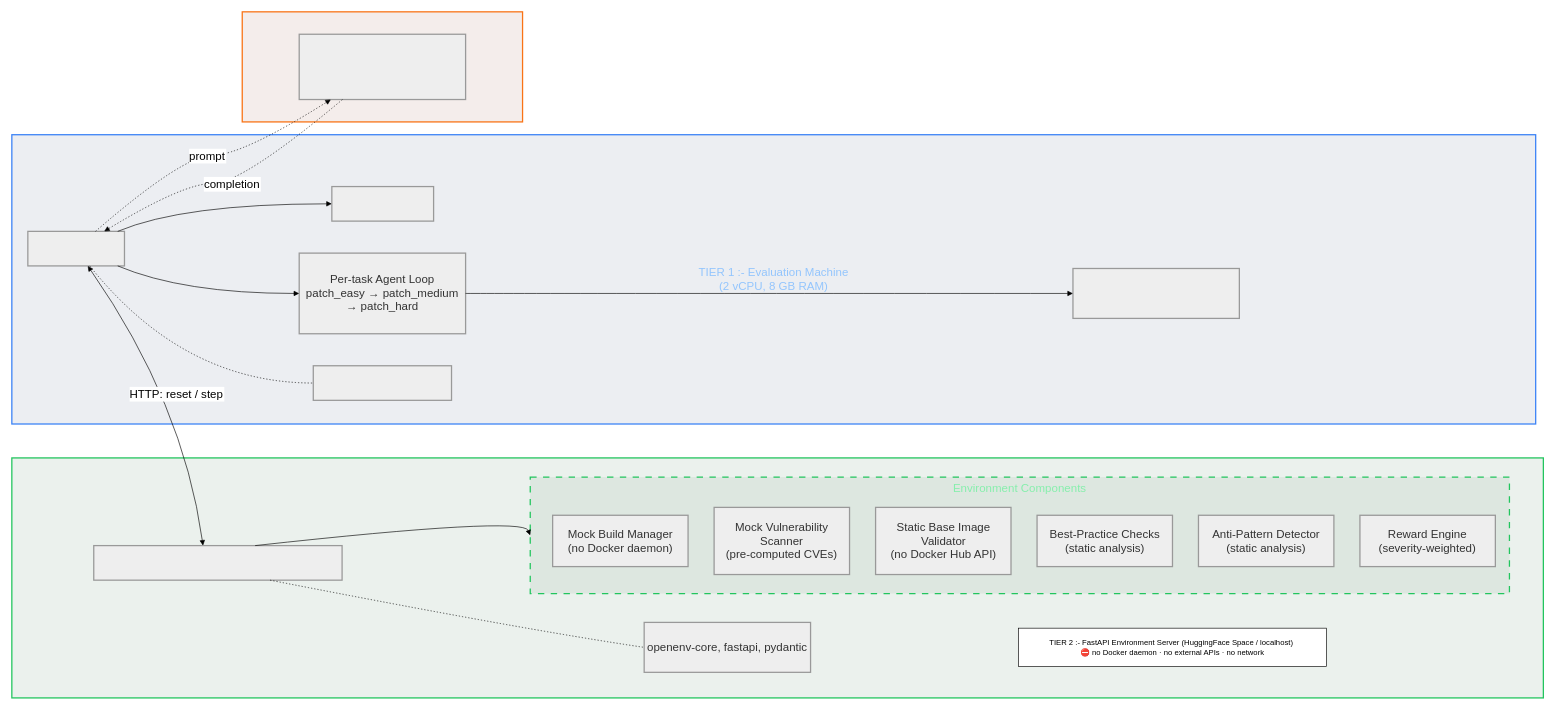
Some shapes in this 1555 by 709 pixel diagram are drawn without their labels. The centre of each missing label's shape, as x and y in pixels:
"HuggingFace Router / OpenAI-compatible Provider" goes at point 382,66.
"inference.py" goes at point 76,248.
"Line Emitter [START] / [STEP] / [END]" goes at point 1156,293.
"OpenAI Client" goes at point 382,203.
"openai, openenv-core" goes at point 382,383.
"server/app.py DockerHardeningEnvironment" goes at point 217,562.
